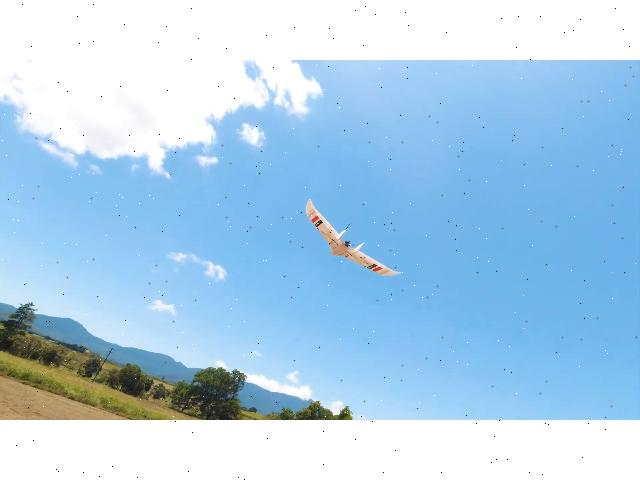Anti-Drone: (268, 184, 430, 299)
